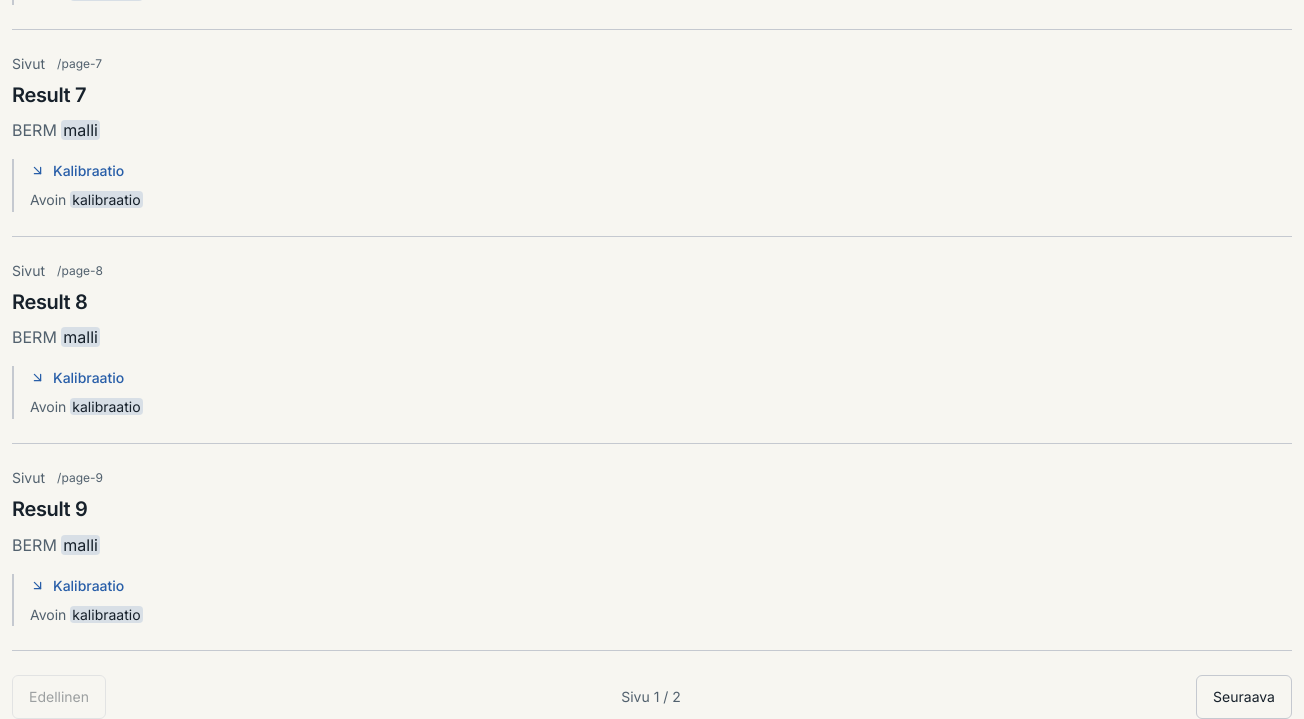
Test: site-wide search experience › loads ten excerpts at a time and clamps an out-of-range result page
(page scrolled)
Check: the link "Result 9" is shown, box [12, 497, 87, 521]
Click the button "Seuraava". click: (1244, 697)
box: [1196, 675, 1292, 718]
(page scrolled)
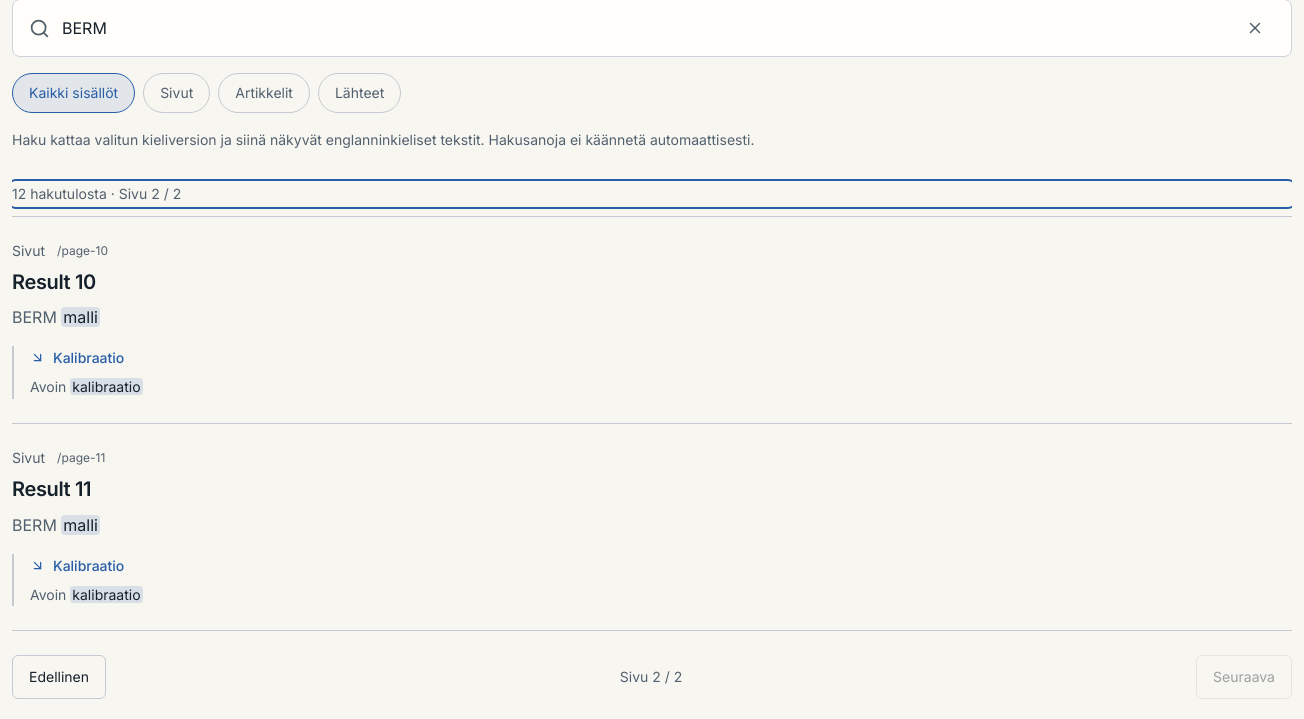
Check: the link "Result 11" is shown, box [12, 477, 91, 501]
Check: the button "Seuraava" is disabled, box [1196, 655, 1292, 699]
Check: the message shows "Sivu 2 / 2", box [12, 185, 181, 202]
